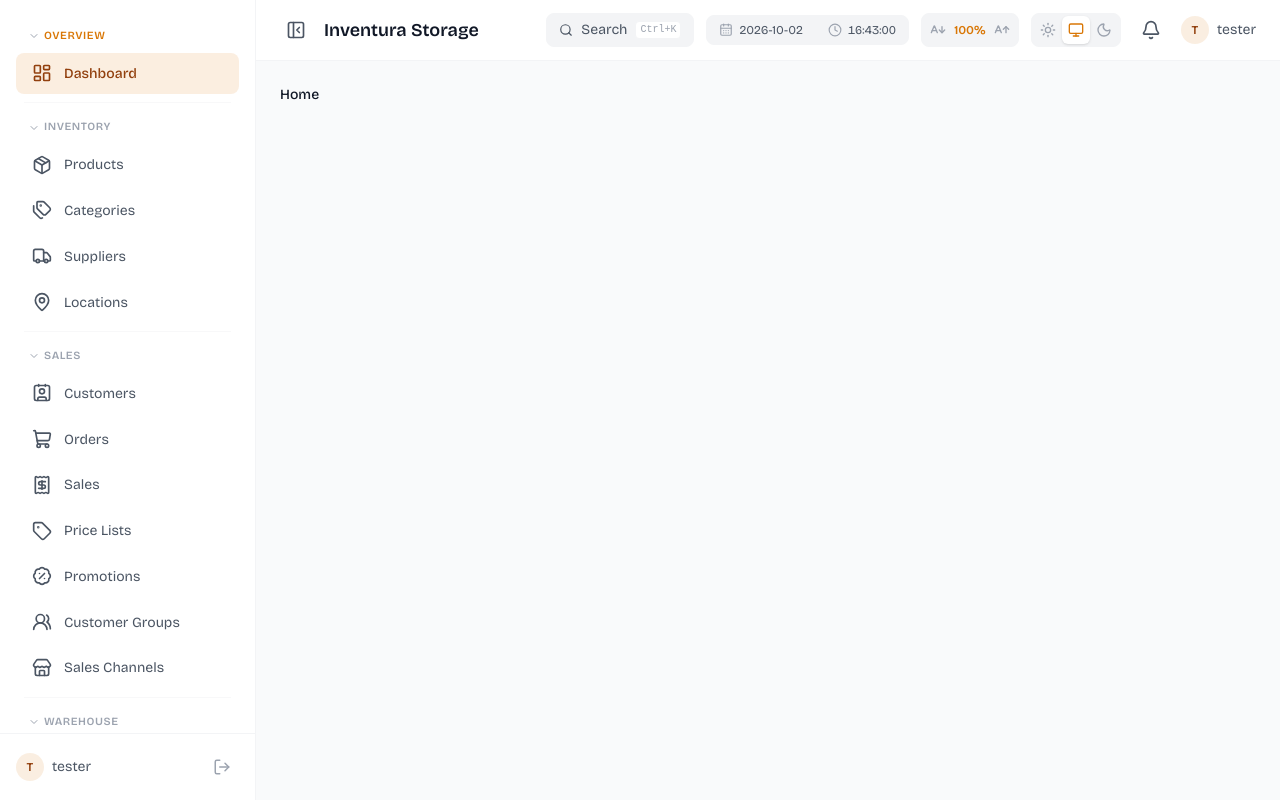
it: Layout › collapses the sidebar on desktop for full page visibility
Click the button titled "Collapse sidebar": (296, 30) [280, 14, 312, 46]
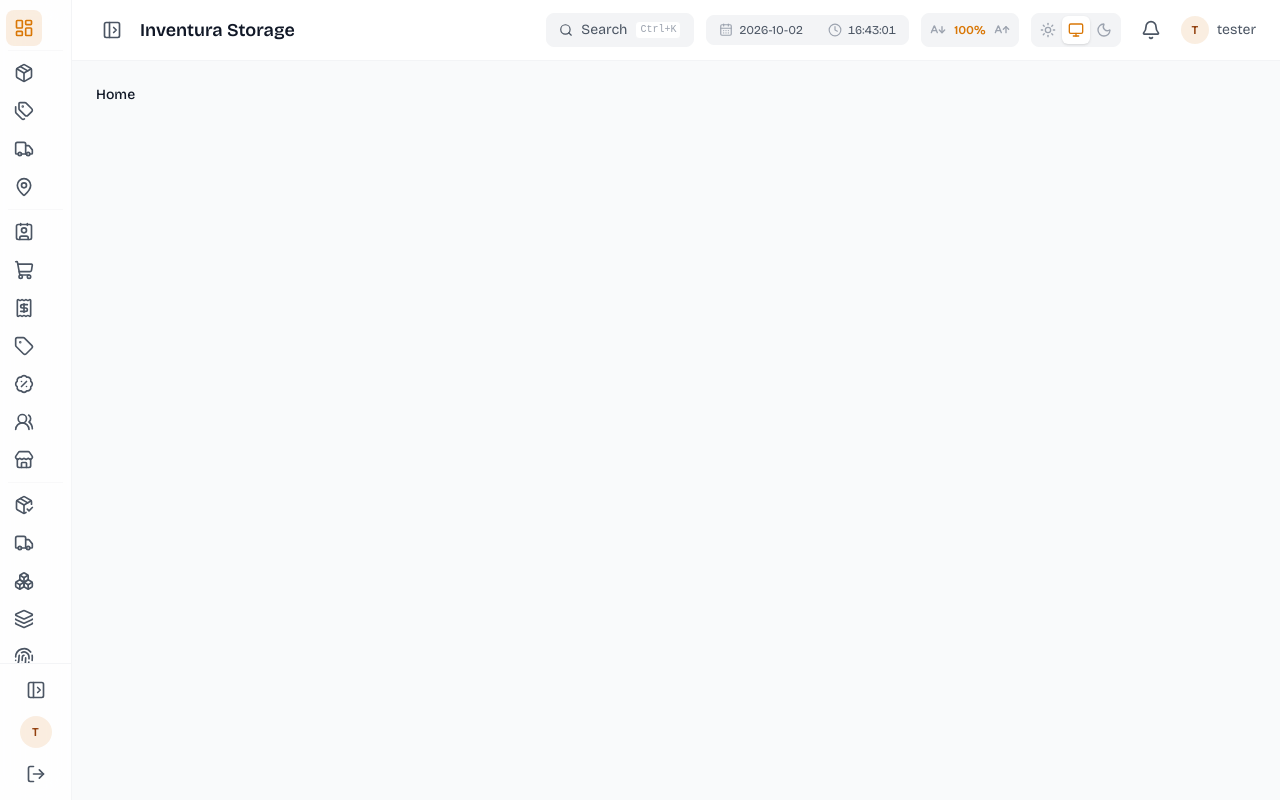
Now the button titled "Expand sidebar" next to "Inventura Storage" is shown, box [96, 14, 128, 46]
